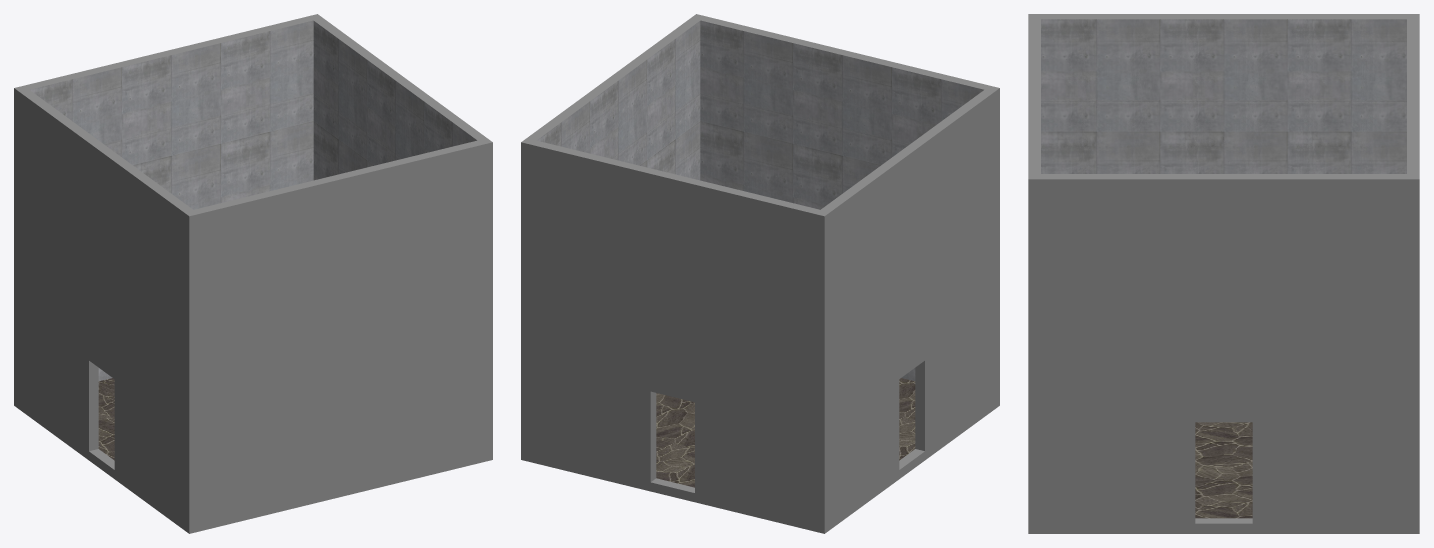
Rendered from Patio.FBX.
The picture shows the model from 3 angles, left to right: view 1: azimuth 30°, elevation 25°; view 2: azimuth 150°, elevation 25°; view 3: azimuth 270°, elevation 25°; orthographic projection. The views are drawn at different scales.
Parts seen in each view (by area): view 1: Patio; view 2: Patio; view 3: Patio.
Part boxes in pixels (x1=…): Patio: x1=14, y1=14, x2=492, y2=533; Patio: x1=521, y1=14, x2=999, y2=533; Patio: x1=1028, y1=14, x2=1419, y2=533.
Size of the model in its own units: 500 by 500 by 500.
